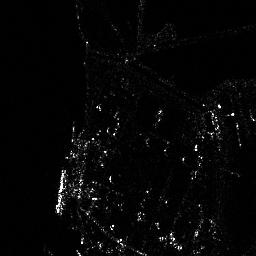ship: (54, 168, 68, 216)
